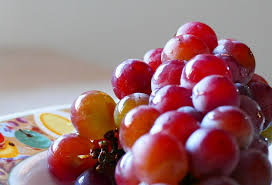Red Grapes: (128, 56, 258, 185)
